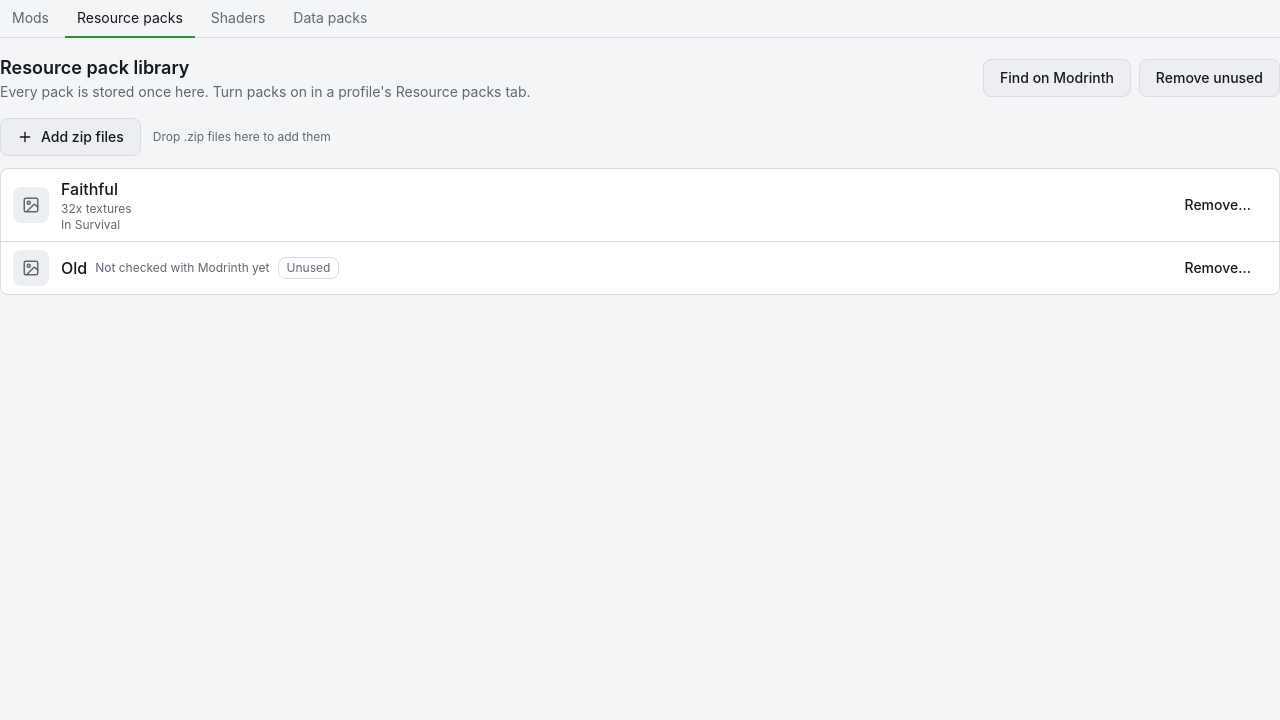
Test case: LibraryPage › asks before removing unused packs
The width and height of the screenshot is (1280, 720).
Expected: the text "Old" is shown, [61,256,87,280]
Click the button "Remove unused" at (1209, 78), box [1139,59,1279,97]
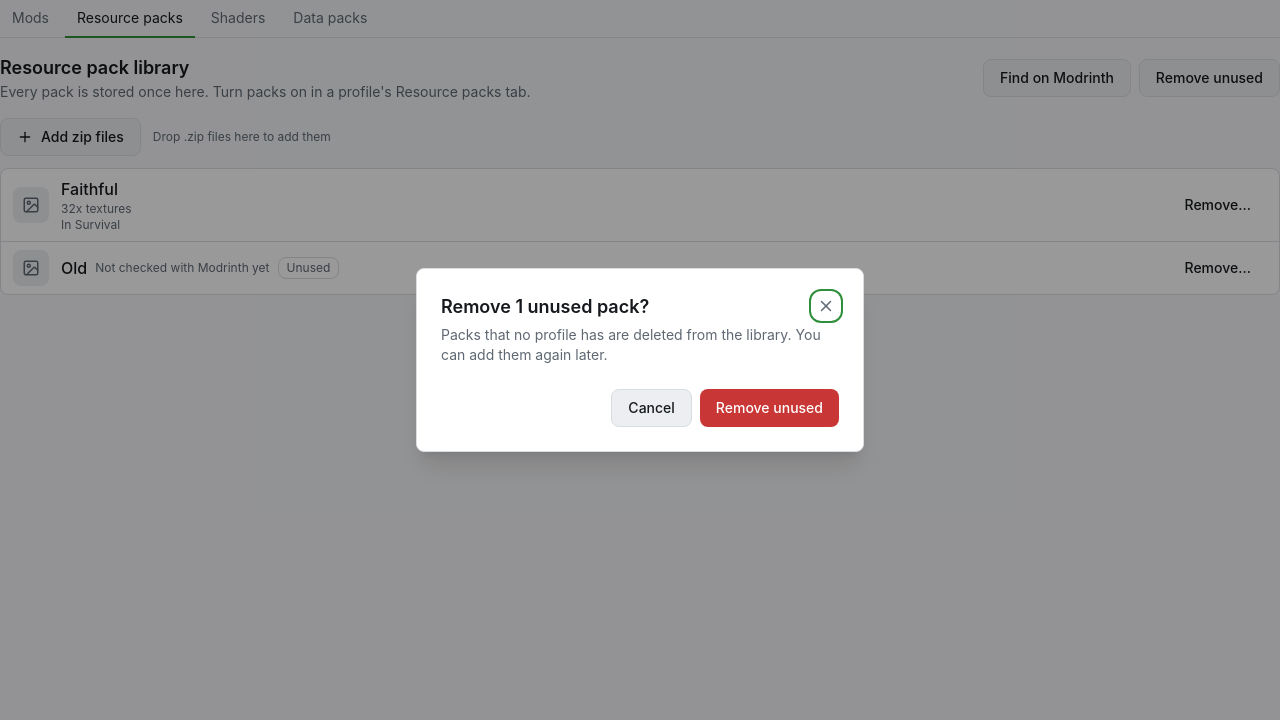
Now the heading "Remove 1 unused pack?" is shown, box [441,293,649,321]
Click the button "Remove unused" at (769, 408), box [700,389,839,427]
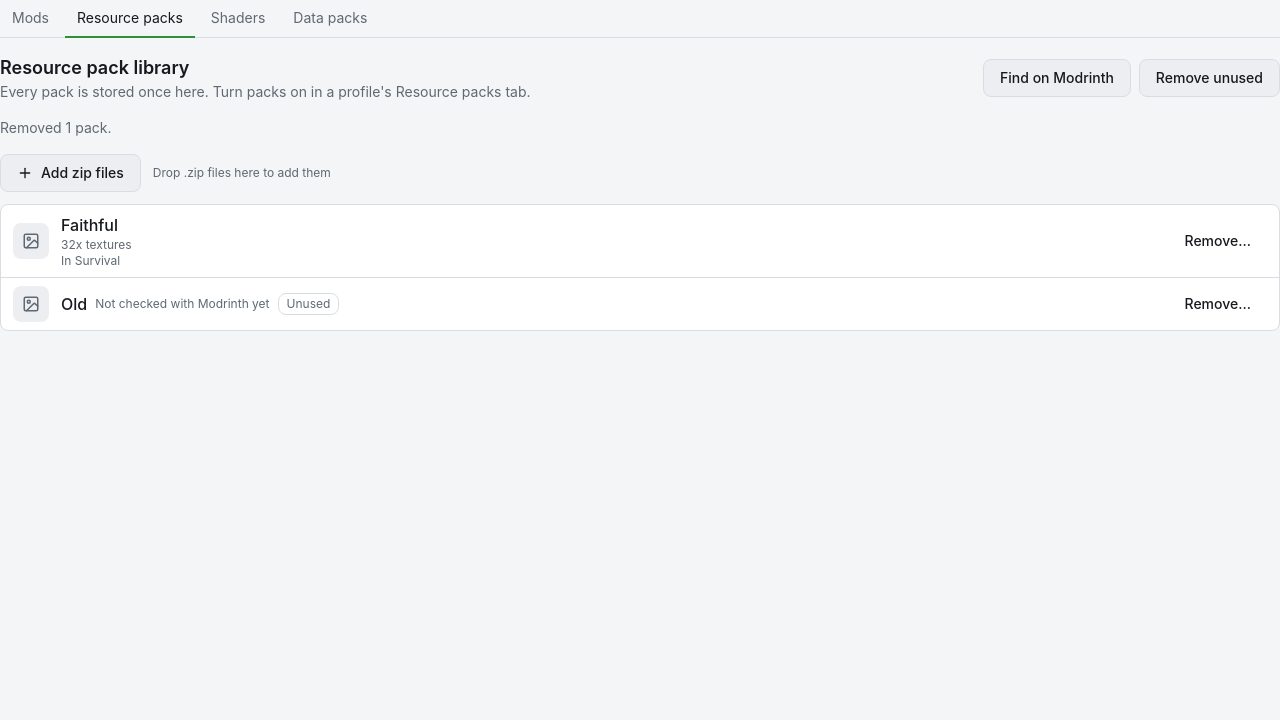
Now the text "Removed 1 pack." is shown, box [0,119,112,136]
